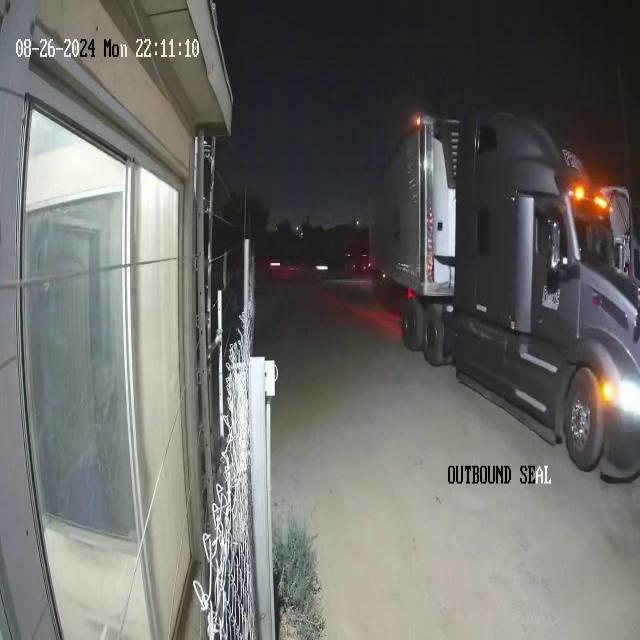TRUCK_IN: (369, 106, 639, 474)
